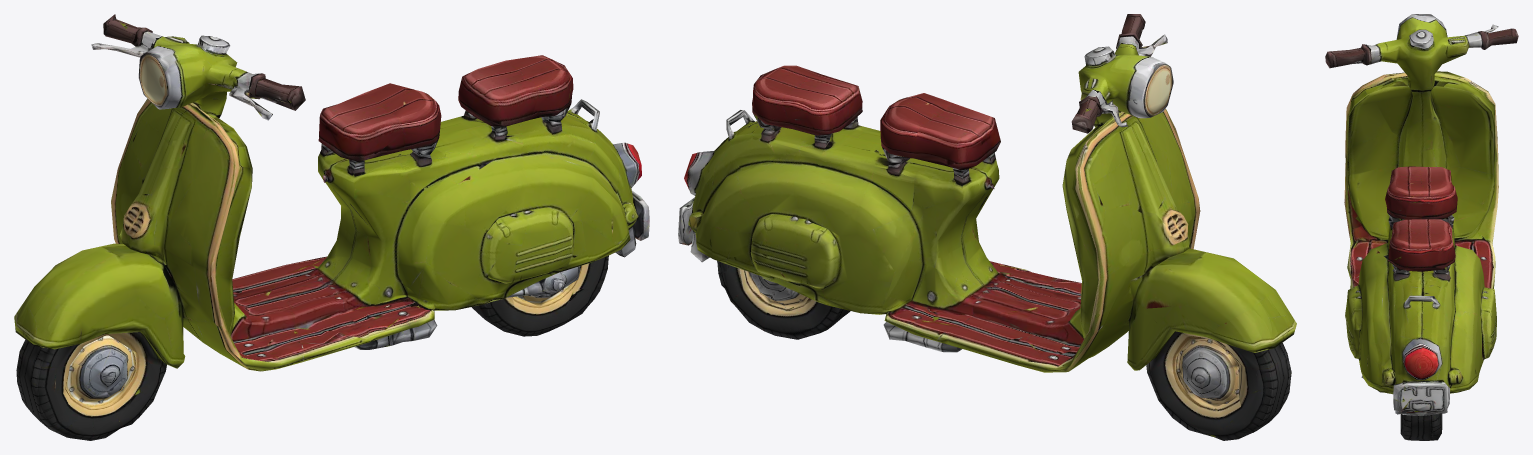
Rendered from scooter-lime.glb.
3 renders of one model, left to right at view 1: azimuth 30°, elevation 25°; view 2: azimuth 150°, elevation 25°; view 3: azimuth 270°, elevation 25°, orthographic. The views are drawn at different scales.
Parts seen in each view (by area): view 1: mesh_node; view 2: mesh_node; view 3: mesh_node.
Part boxes in pixels (box(x1,y1,x2,y2)): mesh_node: box(14, 14, 649, 440); mesh_node: box(678, 14, 1296, 440); mesh_node: box(1325, 14, 1518, 440).
Bounding box in the file's own units: 1.89 × 1.09 × 0.6742.
1 material, 1 textured.
